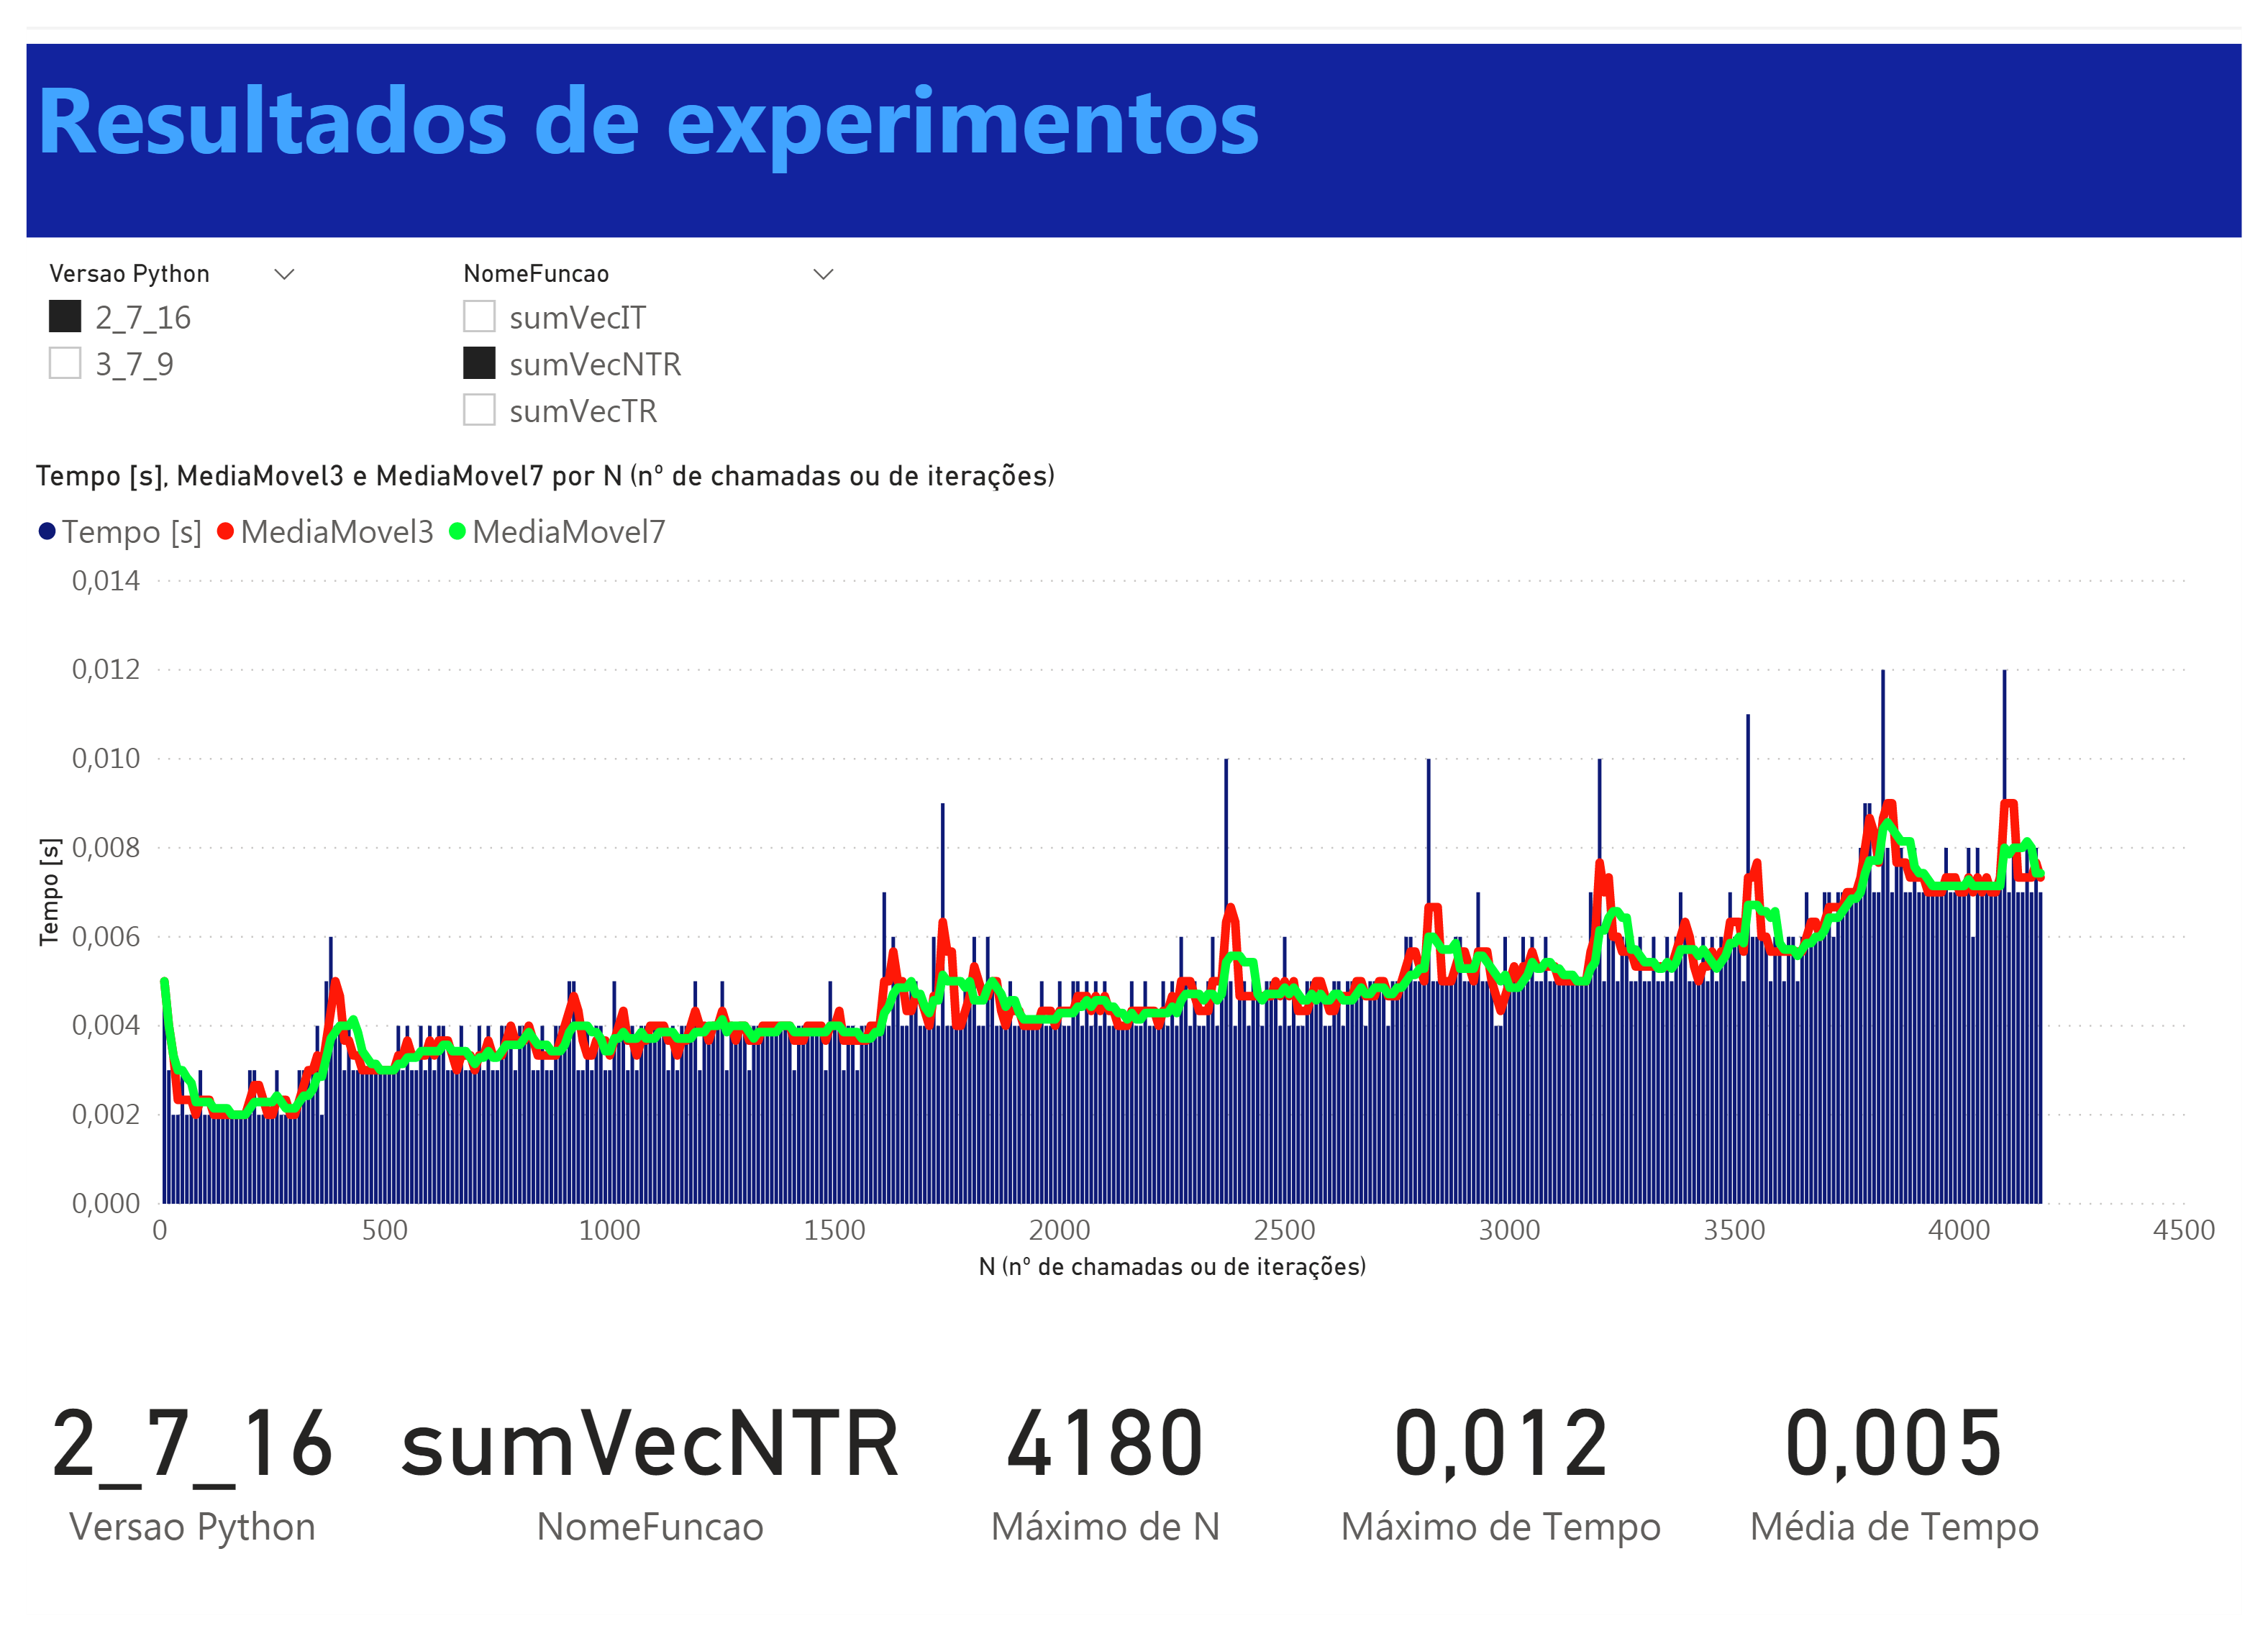

The dashboard page shown, as its layout file describes it:
{"tool":"powerbi","page":{"name":"Soma de Vetor","canvas":[1280,900],"ordinal":5},"visuals":[{"type":"card","fields":{"Values":["Max(Tabela1.Tempo)"]},"box":[744,744,216,144],"z":0},{"type":"card","fields":{"Values":["Min(Tabela1.NomeFuncao)"]},"box":[192,744,336,144],"z":1000},{"type":"card","fields":{"Values":["Max(Tabela1.N)"]},"box":[552,744,144,144],"z":2000},{"type":"card","fields":{"Values":["Avg(Tabela1.Tempo)"]},"box":[984,744,192,144],"z":3000},{"type":"slicer","fields":{"Values":["Tabela1.Versao Python"]},"box":[0,120,168,96],"z":4000},{"type":"card","fields":{"Values":["Min(Tabela1.Versao Python)"]},"box":[0,744,192,144],"z":5000},{"type":"textbox","box":[0,0,1280,112],"z":6000},{"type":"lineClusteredColumnComboChart","fields":{"Y":["Sum(Tabela1.Tempo)"],"Category":["Tabela1.N"],"Y2":["Tabela1.MediaMovel3","Tabela1.MediaMovel7"]},"box":[0,240,1272,480],"z":7000},{"type":"slicer","fields":{"Values":["Tabela1.NomeFuncao"]},"box":[240,120,240,120],"z":8000}]}

Visuals, with their boxes in screenshot pixels (x1, y1, x2, y2), scaled from the page's 1280x900 canvas onto the 2268x1641 screenshot:
card - Max(Tabela1.Tempo): (1319, 1356, 1701, 1619)
card - Min(Tabela1.NomeFuncao): (340, 1356, 936, 1619)
card - Max(Tabela1.N): (978, 1356, 1233, 1619)
card - Avg(Tabela1.Tempo): (1744, 1356, 2084, 1619)
slicer - Tabela1.Versao Python: (0, 219, 298, 394)
card - Min(Tabela1.Versao Python): (0, 1356, 340, 1619)
textbox: (0, 0, 2267, 204)
lineClusteredColumnComboChart - Sum(Tabela1.Tempo) x Tabela1.N: (0, 438, 2254, 1313)
slicer - Tabela1.NomeFuncao: (425, 219, 850, 438)
